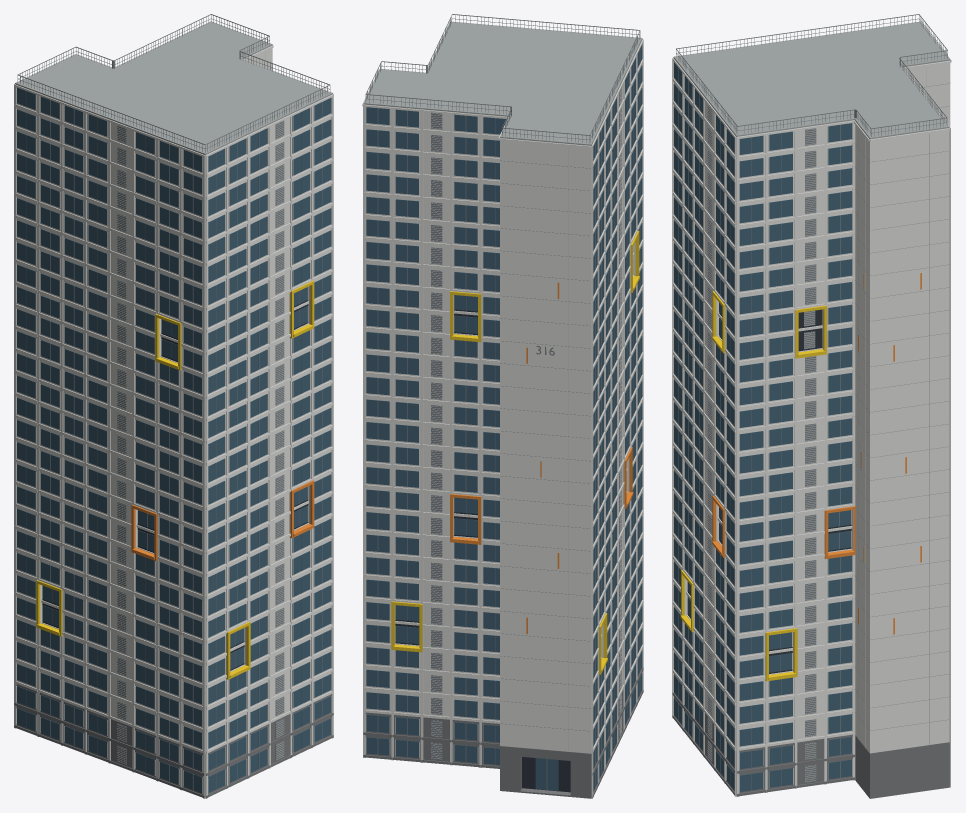
The model's file is bespoke-songpa-helio-city-316.glb.
The picture shows the model from 3 angles, left to right: view 1: azimuth 30°, elevation 25°; view 2: azimuth 150°, elevation 25°; view 3: azimuth 270°, elevation 25°; orthographic projection. The views are drawn at different scales.
Parts seen in each view (by area): view 1: Helio316_editable_Helio316_dark_blue_grey_glazing, Helio316_editable_Helio316_white_slab_frames, Helio316_editable_Helio316_low_roof_deck, Helio316_editable_Helio316_grey_service_grille, Helio316_editable_Helio316_dark_grey_twofloor_base, Helio316_editable_Helio316_blankwall_grey_panels, Helio316_editable_Helio316_yellow_projecting_rectangular_fra, Helio316_editable_Helio316_orange_narrow_accent, Helio316_editable_Helio316_deep_shaded_frame_recess; view 2: Helio316_editable_Helio316_white_slab_frames, Helio316_editable_Helio316_dark_blue_grey_glazing, Helio316_editable_Helio316_low_roof_deck, Helio316_editable_Helio316_grey_service_grille, Helio316_editable_Helio316_dark_grey_twofloor_base, Helio316_editable_Helio316_blankwall_grey_panels, Helio316_editable_Helio316_yellow_projecting_rectangular_fra, Helio316_editable_Helio316_deep_shaded_frame_recess, Helio316_editable_Helio316_orange_narrow_accent; view 3: Helio316_editable_Helio316_white_slab_frames, Helio316_editable_Helio316_dark_blue_grey_glazing, Helio316_editable_Helio316_low_roof_deck, Helio316_editable_Helio316_grey_service_grille, Helio316_editable_Helio316_dark_grey_twofloor_base, Helio316_editable_Helio316_blankwall_grey_panels, Helio316_editable_Helio316_yellow_projecting_rectangular_fra, Helio316_editable_Helio316_orange_narrow_accent, Helio316_editable_Helio316_deep_shaded_frame_recess.
Part boxes in pixels (bbox=[...]): Helio316_editable_Helio316_dark_blue_grey_glazing: bbox=[17, 87, 331, 792]; Helio316_editable_Helio316_white_slab_frames: bbox=[14, 45, 333, 798]; Helio316_editable_Helio316_low_roof_deck: bbox=[15, 21, 332, 154]; Helio316_editable_Helio316_grey_service_grille: bbox=[17, 14, 330, 789]; Helio316_editable_Helio316_dark_grey_twofloor_base: bbox=[14, 684, 333, 798]; Helio316_editable_Helio316_blankwall_grey_panels: bbox=[117, 52, 284, 764]; Helio316_editable_Helio316_yellow_projecting_rectangular_fra: bbox=[36, 280, 314, 679]; Helio316_editable_Helio316_orange_narrow_accent: bbox=[131, 480, 314, 561]; Helio316_editable_Helio316_deep_shaded_frame_recess: bbox=[42, 300, 307, 670]; Helio316_editable_Helio316_white_slab_frames: bbox=[362, 23, 643, 798]; Helio316_editable_Helio316_dark_blue_grey_glazing: bbox=[366, 44, 642, 790]; Helio316_editable_Helio316_low_roof_deck: bbox=[363, 21, 642, 145]; Helio316_editable_Helio316_grey_service_grille: bbox=[365, 14, 640, 789]; Helio316_editable_Helio316_dark_grey_twofloor_base: bbox=[363, 663, 643, 798]; Helio316_editable_Helio316_blankwall_grey_panels: bbox=[431, 88, 621, 759]; Helio316_editable_Helio316_yellow_projecting_rectangular_fra: bbox=[391, 231, 639, 674]; Helio316_editable_Helio316_deep_shaded_frame_recess: bbox=[395, 295, 570, 792]; Helio316_editable_Helio316_orange_narrow_accent: bbox=[450, 282, 633, 633]; Helio316_editable_Helio316_white_slab_frames: bbox=[672, 23, 951, 796]; Helio316_editable_Helio316_dark_blue_grey_glazing: bbox=[674, 62, 851, 791]; Helio316_editable_Helio316_low_roof_deck: bbox=[673, 21, 950, 139]; Helio316_editable_Helio316_grey_service_grille: bbox=[676, 14, 949, 790]; Helio316_editable_Helio316_dark_grey_twofloor_base: bbox=[672, 674, 949, 798]; Helio316_editable_Helio316_blankwall_grey_panels: bbox=[707, 67, 929, 781]; Helio316_editable_Helio316_yellow_projecting_rectangular_fra: bbox=[680, 291, 826, 681]; Helio316_editable_Helio316_orange_narrow_accent: bbox=[712, 273, 921, 634]; Helio316_editable_Helio316_deep_shaded_frame_recess: bbox=[687, 309, 851, 673].
Size of the model in its own units: 30.98 by 82.2 by 31.09.
